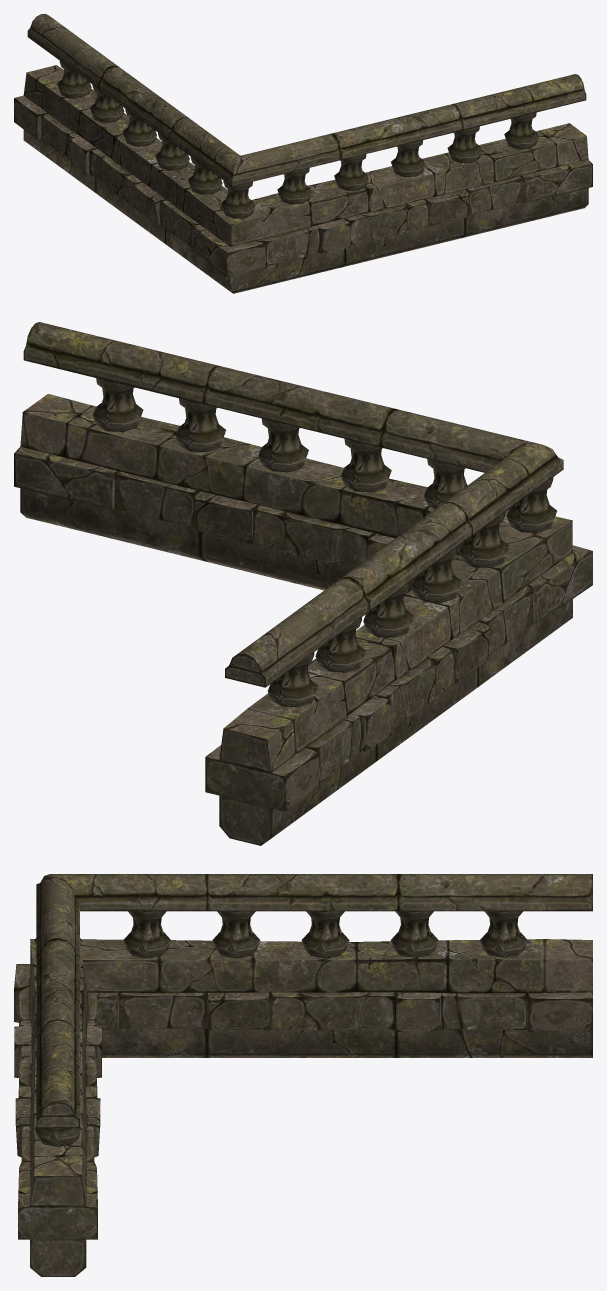
File: Railing_Corner_02-transformed.glb
3 views of the same model, one above another, from view 1: azimuth 30°, elevation 25°; view 2: azimuth 150°, elevation 25°; view 3: azimuth 270°, elevation 25° (orthographic). The views are drawn at different scales.
Parts seen in each view (by area): view 1: default; view 2: default; view 3: default.
Boxes of the visible parts, bbox=[...] form: default: bbox=[14, 14, 592, 293]; default: bbox=[14, 322, 592, 845]; default: bbox=[14, 874, 592, 1276].
Size of the model in its own units: 6.5 by 2.17 by 6.49.
Materials: 1 (1 with a texture image).
